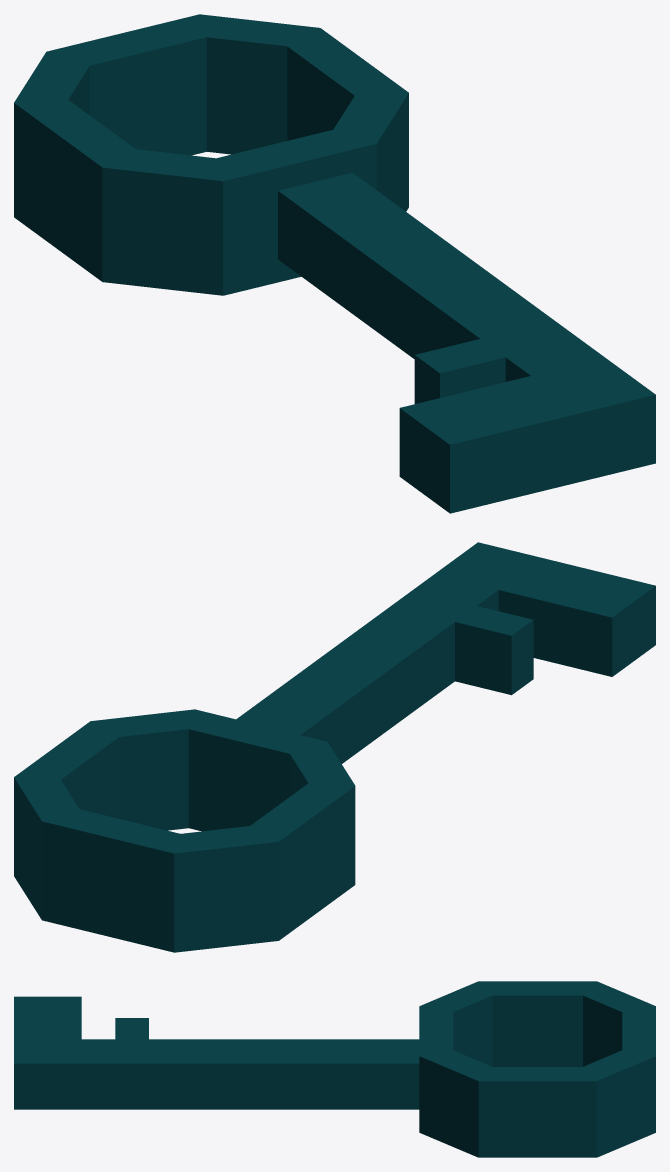
Rendered from WR Key.fbx.
The picture shows the model from 3 angles, top to bottom: view 1: azimuth 30°, elevation 25°; view 2: azimuth 150°, elevation 25°; view 3: azimuth 270°, elevation 25°; orthographic projection. The views are drawn at different scales.
Visible parts, largest first — view 1: WR Key0; view 2: WR Key0; view 3: WR Key0.
Boxes of the visible parts, x1,y1,x2,y2 form: WR Key0: (14,14,655,513); WR Key0: (14,542,655,952); WR Key0: (14,981,655,1157).
Size of the model in its own units: 7 by 2.5 by 19.
